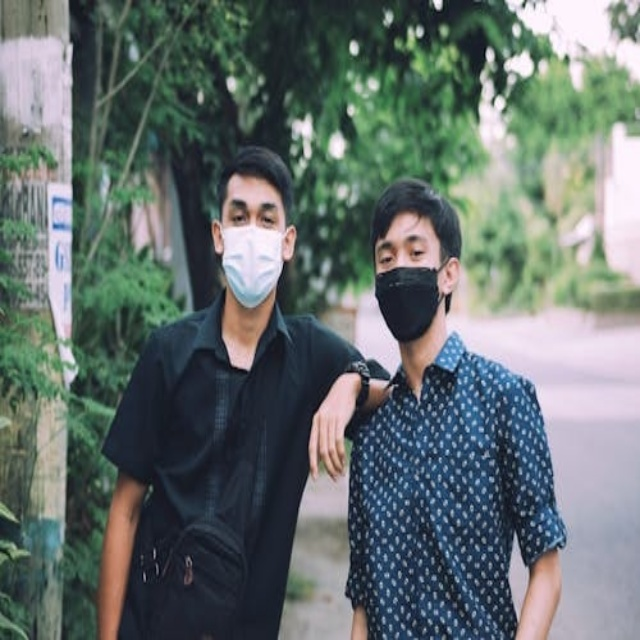Mascara: (218, 223, 285, 307), (376, 263, 448, 341)
Sin_gafas: (225, 190, 280, 229), (378, 227, 429, 265)
Sin_guantes: (308, 393, 356, 485)
